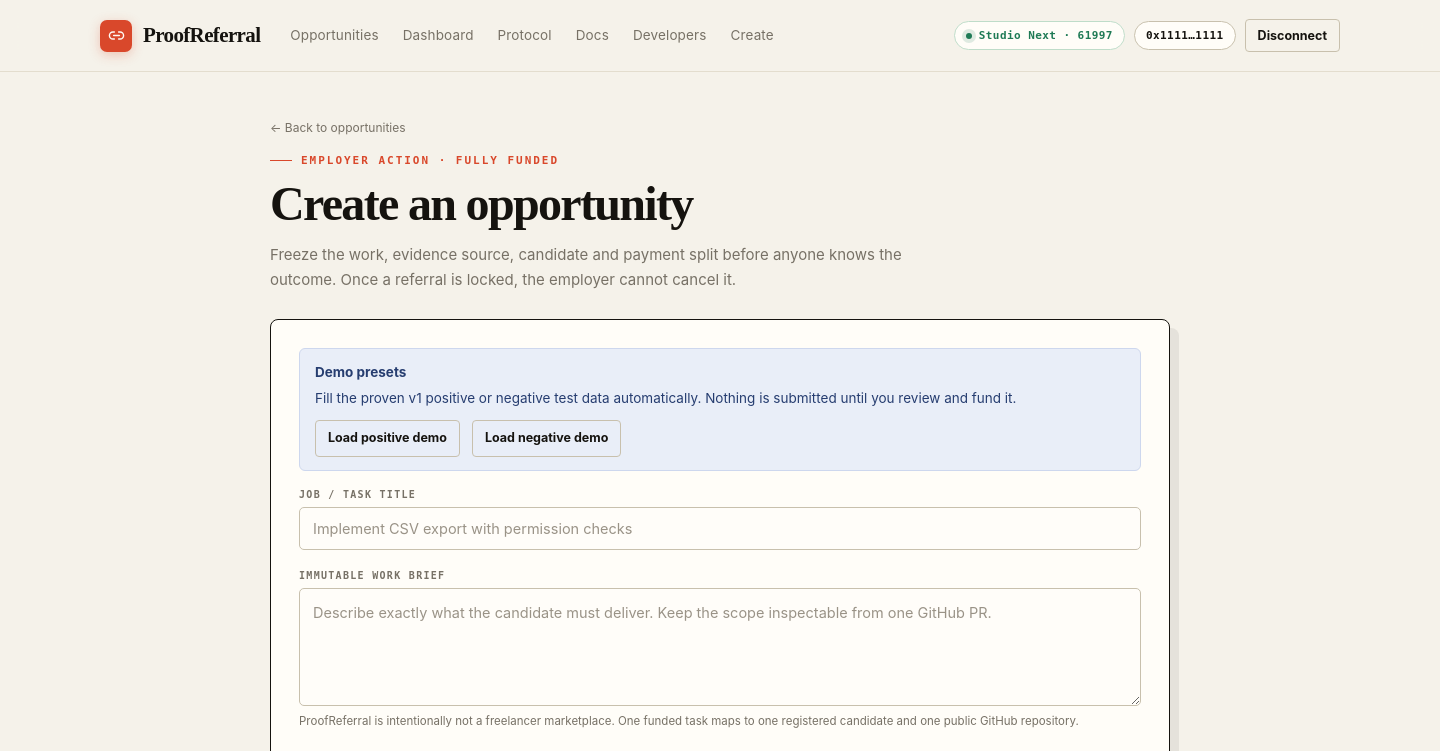
Test: NewOpportunity form validation › requires the completion window to outlast the referral window
Check: the button "Disconnect" is shown, box [1245,19,1340,52]
Click the button "Load positive demo": (387, 439) [315,420,460,457]
(page scrolled)
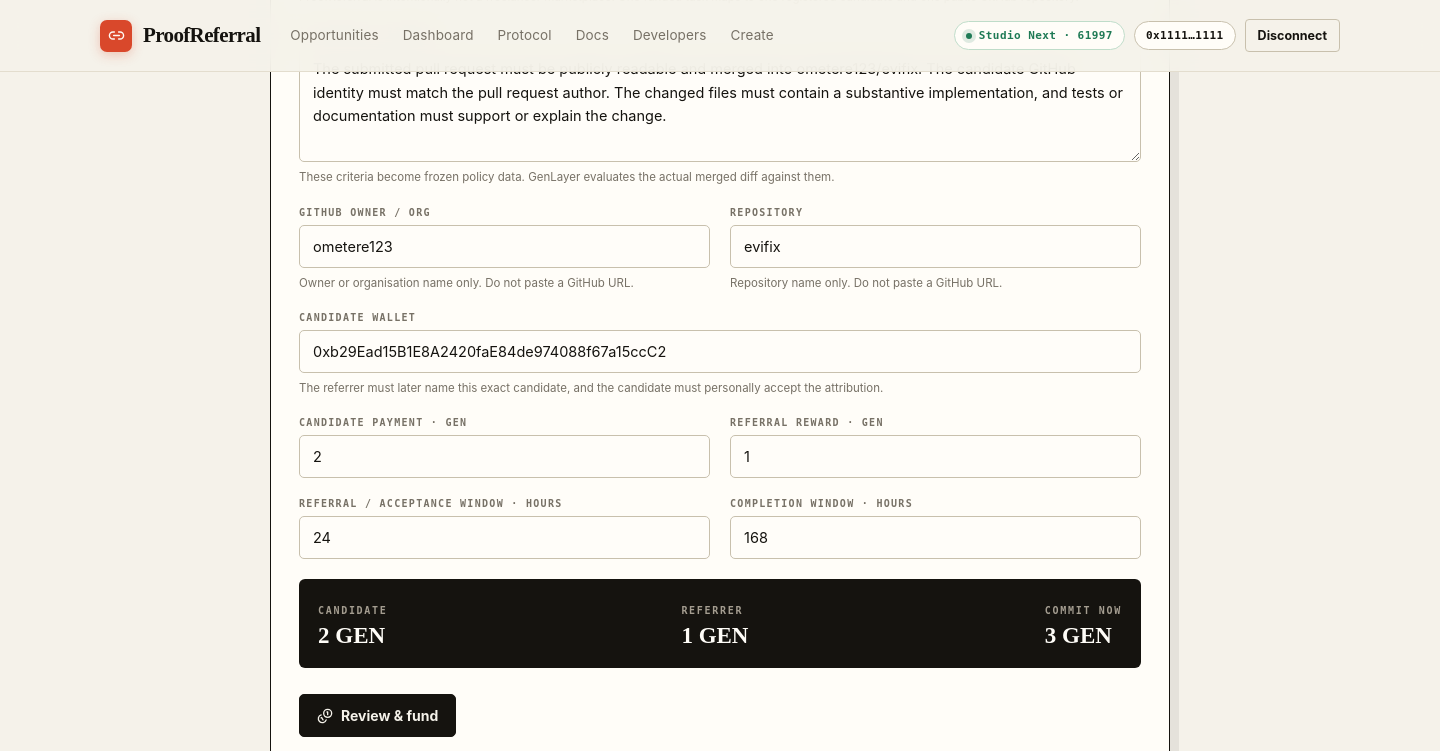
Replace the text in the number field below "Completion window · hours" with "12": (936, 538) [730,516,1141,559]
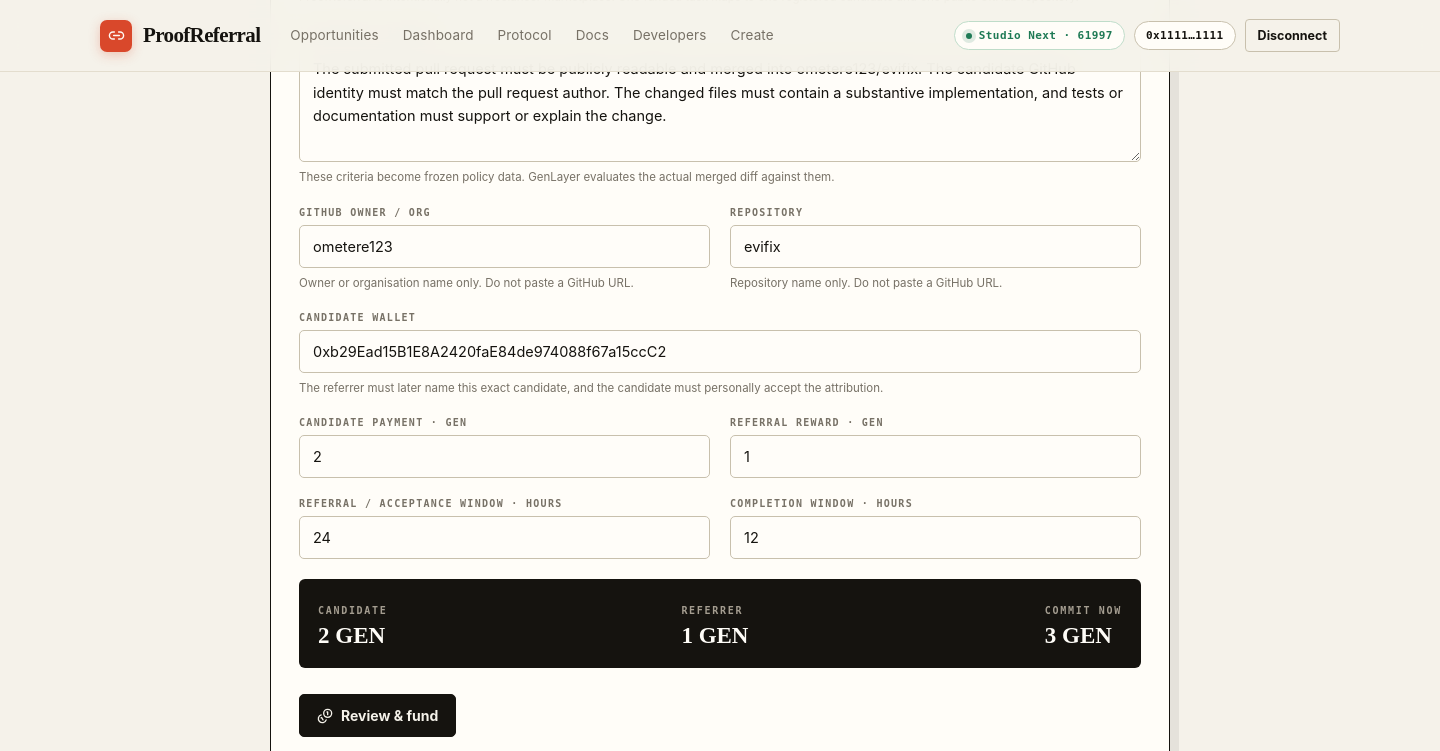
Click the button "Review & fund": (378, 716) [299,694,456,737]
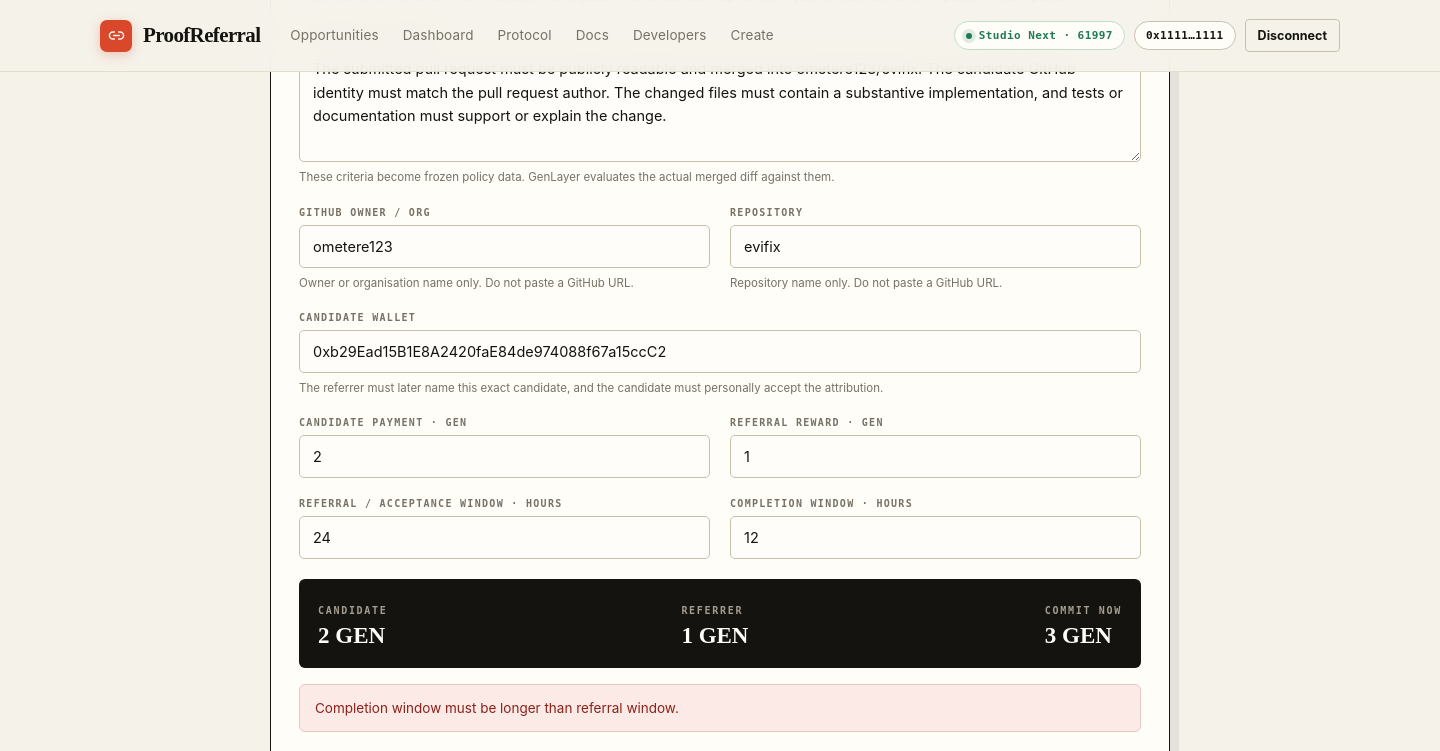
Check: the text "Completion window must be longer than referral window." is shown, box [299,684,1141,732]
